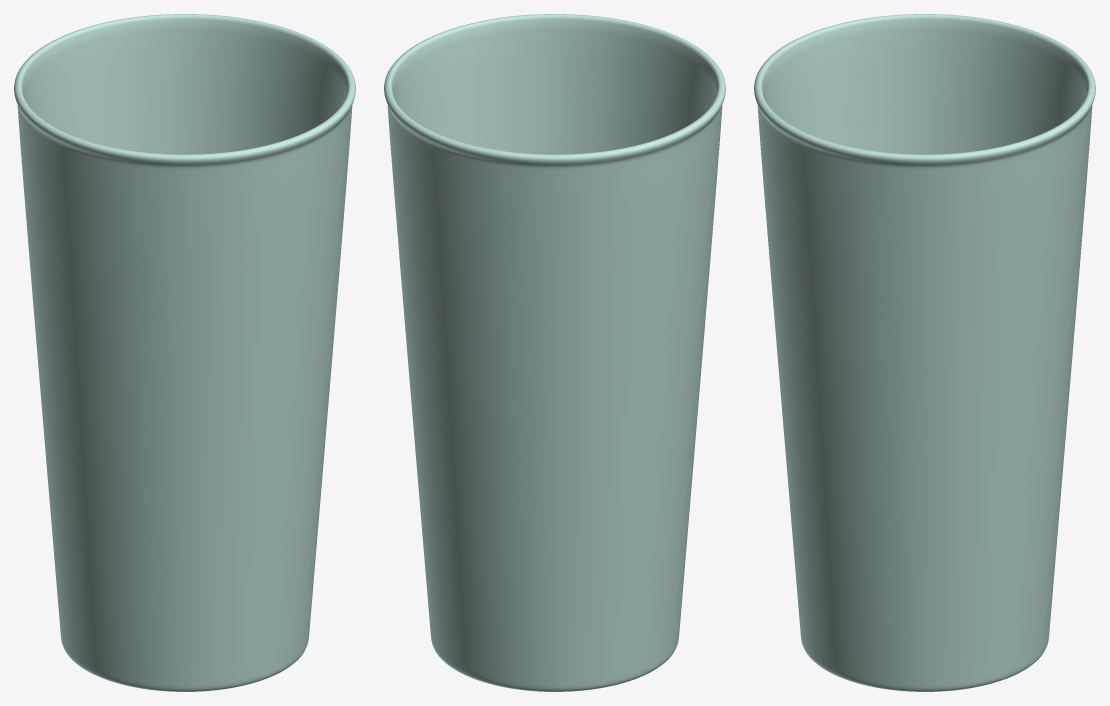
The model's file is American Pint Glass.fbx.
The picture shows the model from 3 angles, left to right: view 1: azimuth 30°, elevation 25°; view 2: azimuth 150°, elevation 25°; view 3: azimuth 270°, elevation 25°; orthographic projection.
Visible parts, largest first — view 1: American Pint Glass; view 2: American Pint Glass; view 3: American Pint Glass.
Part boxes in pixels (bbox=[...]): American Pint Glass: bbox=[14, 14, 355, 691]; American Pint Glass: bbox=[384, 14, 725, 691]; American Pint Glass: bbox=[754, 14, 1095, 691].
Size of the model in its own units: 8.29 by 14.91 by 8.29.
